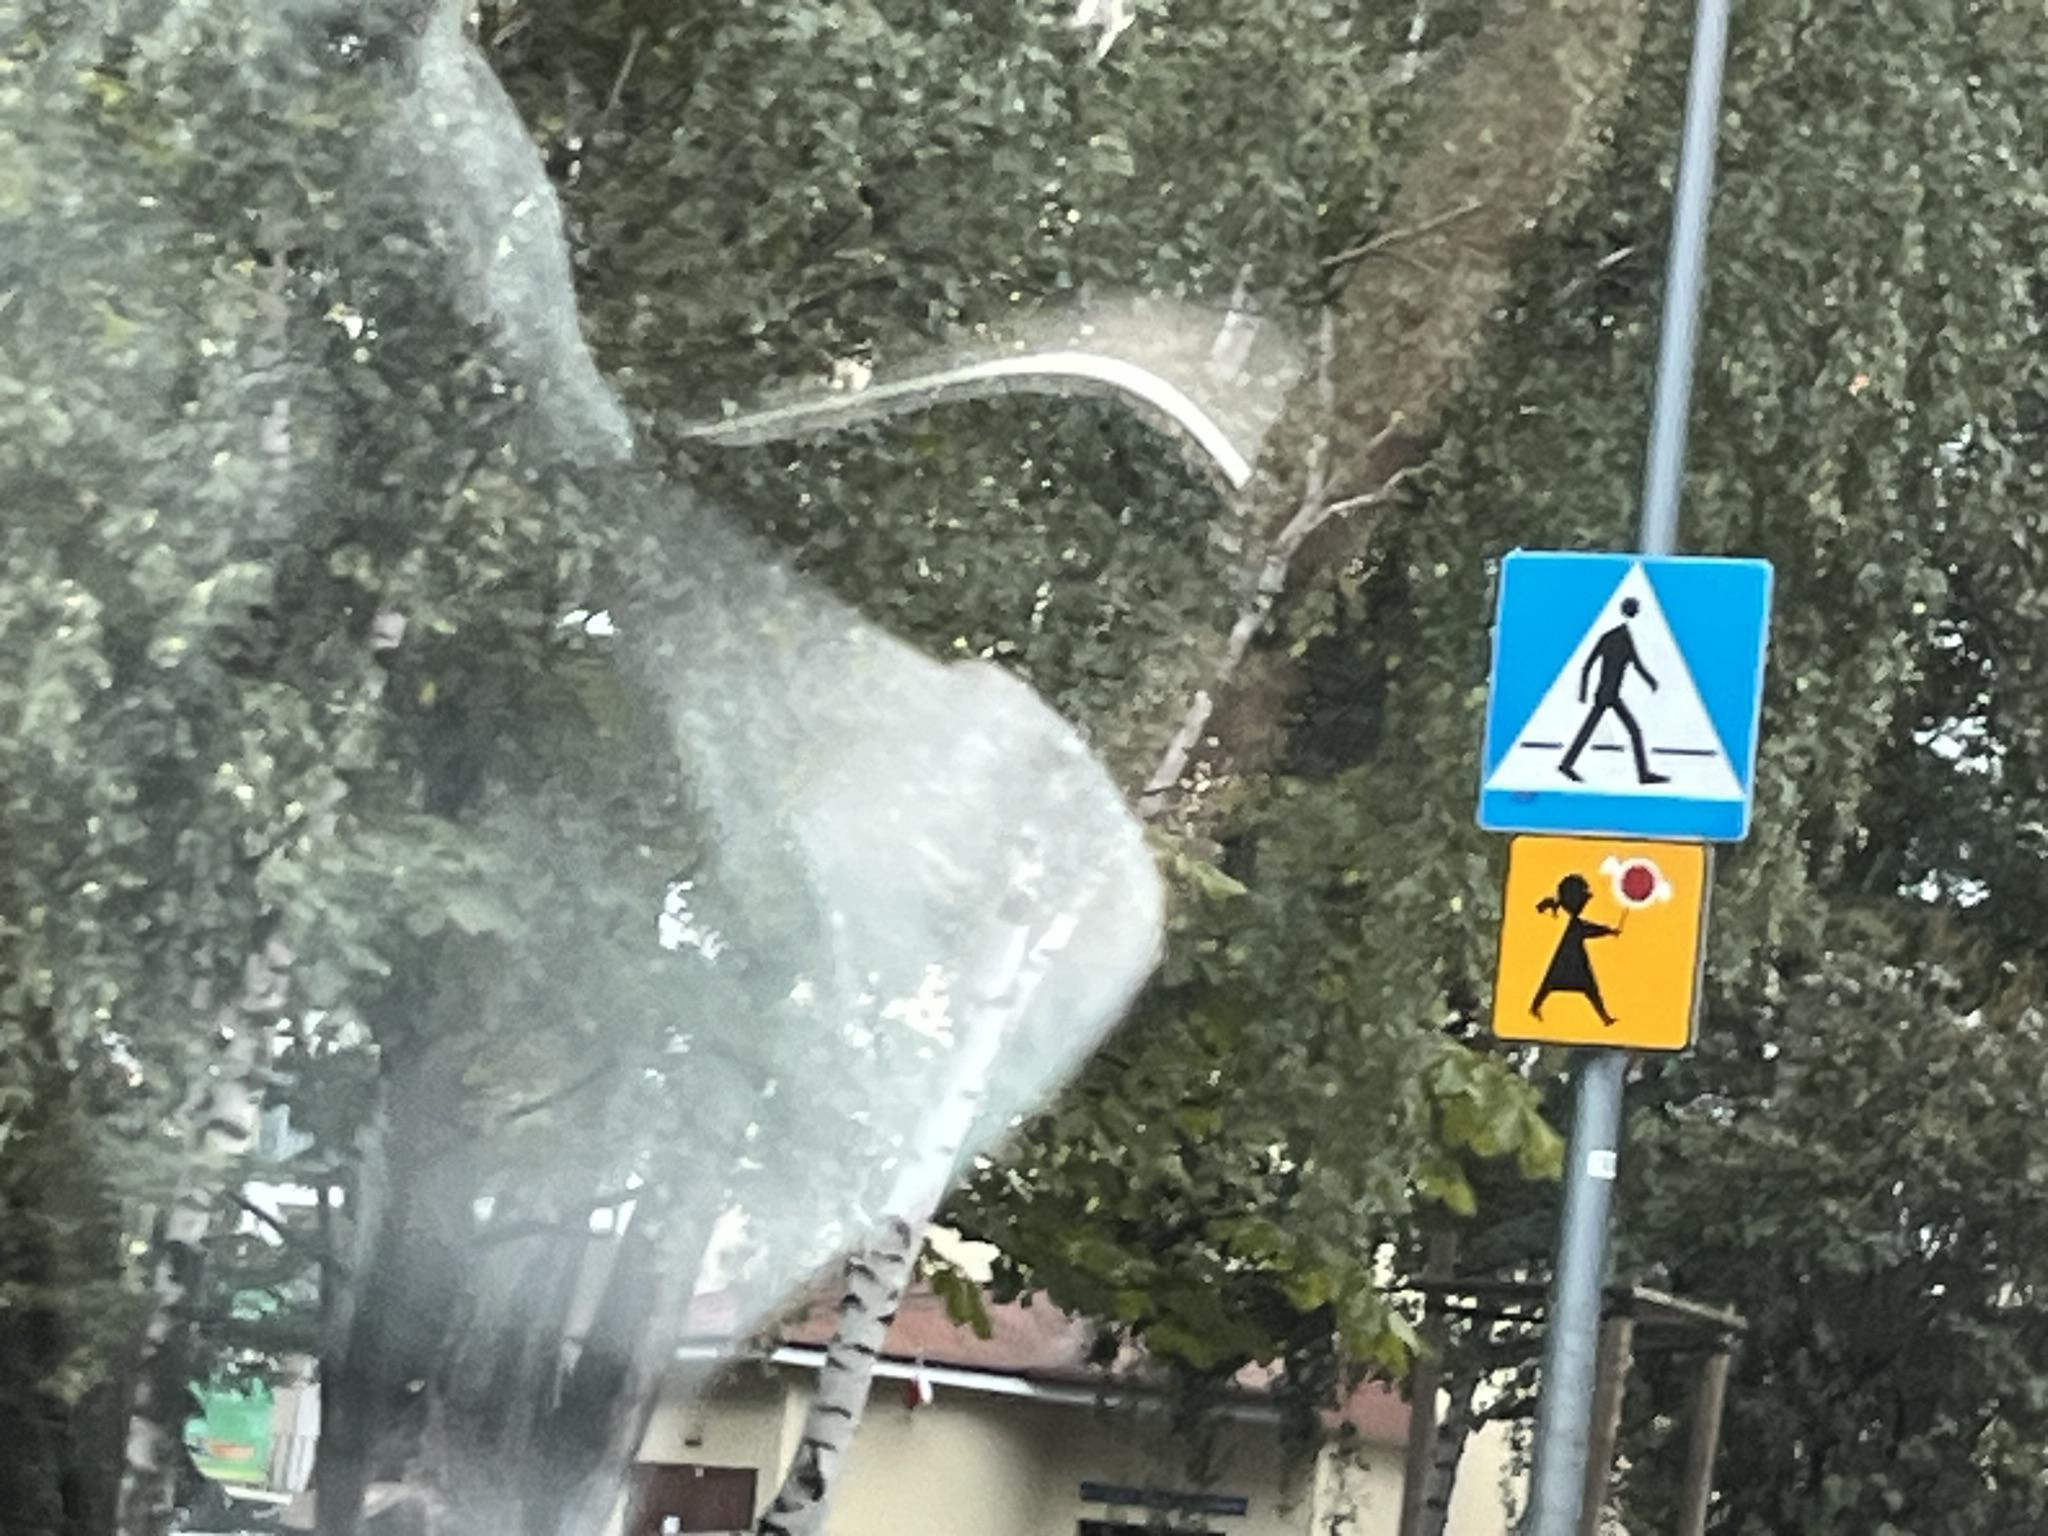information: (1467, 550, 1774, 842)
other: (1484, 833, 1716, 1052)
